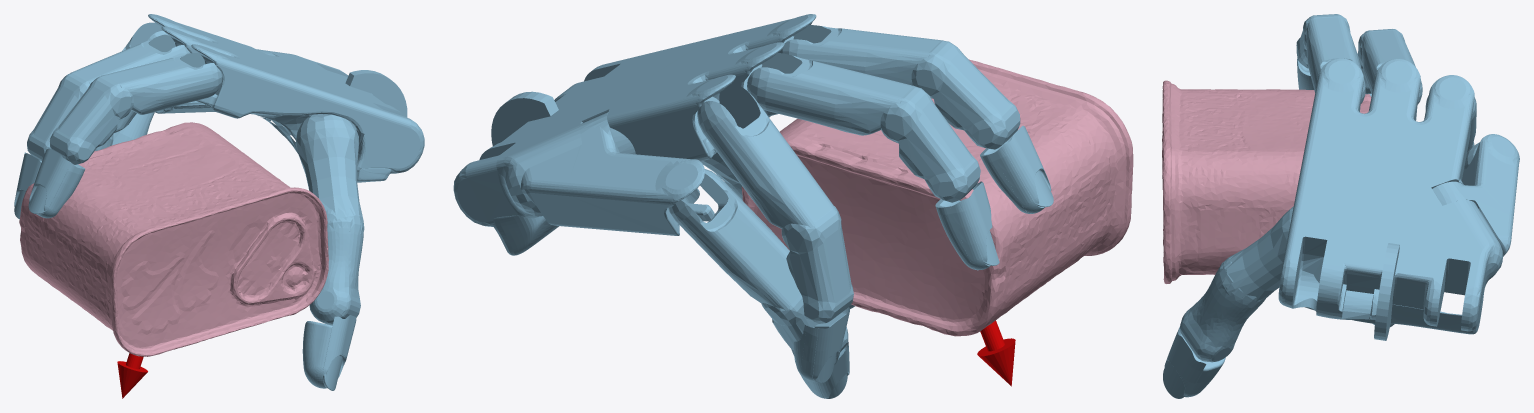
3 renders of one model, left to right at view 1: azimuth 30°, elevation 25°; view 2: azimuth 150°, elevation 25°; view 3: azimuth 270°, elevation 25°, orthographic. The views are drawn at different scales.
Parts seen in each view (by area): view 1: potted_meat_can.stl, world; view 2: world, potted_meat_can.stl; view 3: world, potted_meat_can.stl.
Boxes of the visible parts, x1,y1,x2,y2 form: potted_meat_can.stl: [19, 122, 328, 356]; world: [14, 14, 424, 398]; world: [453, 14, 1053, 398]; potted_meat_can.stl: [741, 59, 1133, 336]; world: [1163, 14, 1519, 398]; potted_meat_can.stl: [1162, 80, 1371, 283].
Size of the model in its own units: 0.1912 by 0.1341 by 0.1404.
